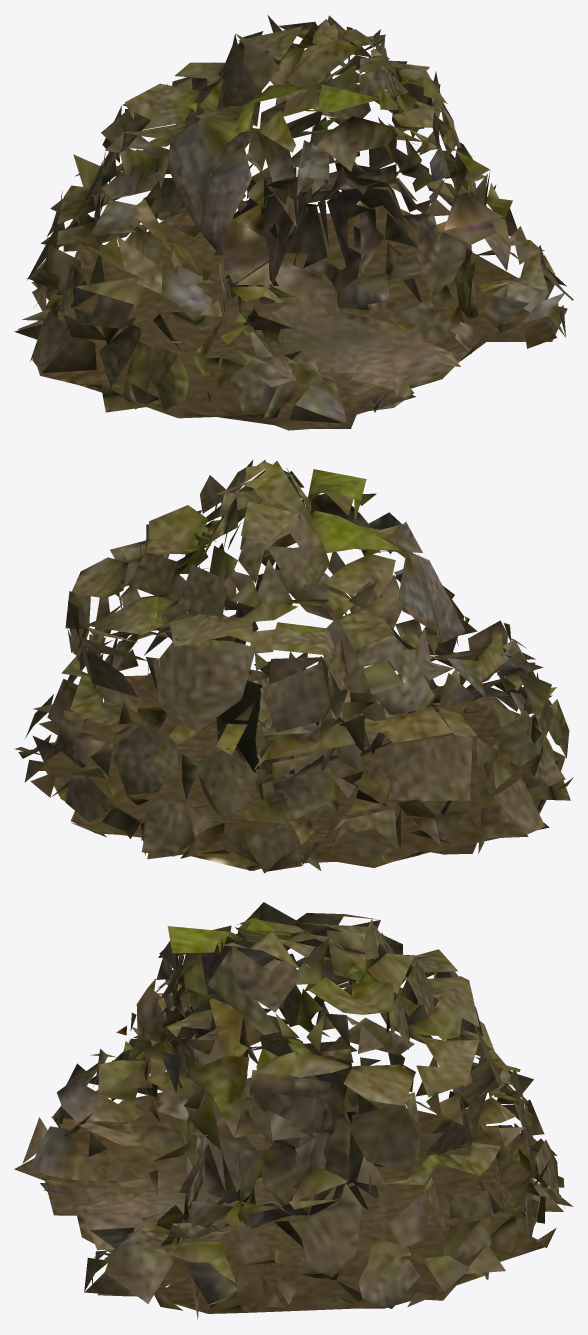
File: caverna_lod2.glb
The picture shows the model from 3 angles, top to bottom: view 1: azimuth 30°, elevation 25°; view 2: azimuth 150°, elevation 25°; view 3: azimuth 270°, elevation 25°; orthographic projection. The views are drawn at different scales.
Parts seen in each view (by area): view 1: caverna; view 2: caverna; view 3: caverna.
Part boxes in pixels (x1,y1,x2,y2): caverna: (14, 15, 573, 430); caverna: (14, 460, 573, 873); caverna: (14, 902, 573, 1319).
Bounding box in the file's own units: 8.85 × 5.16 × 8.2.
1 material, 1 textured.
